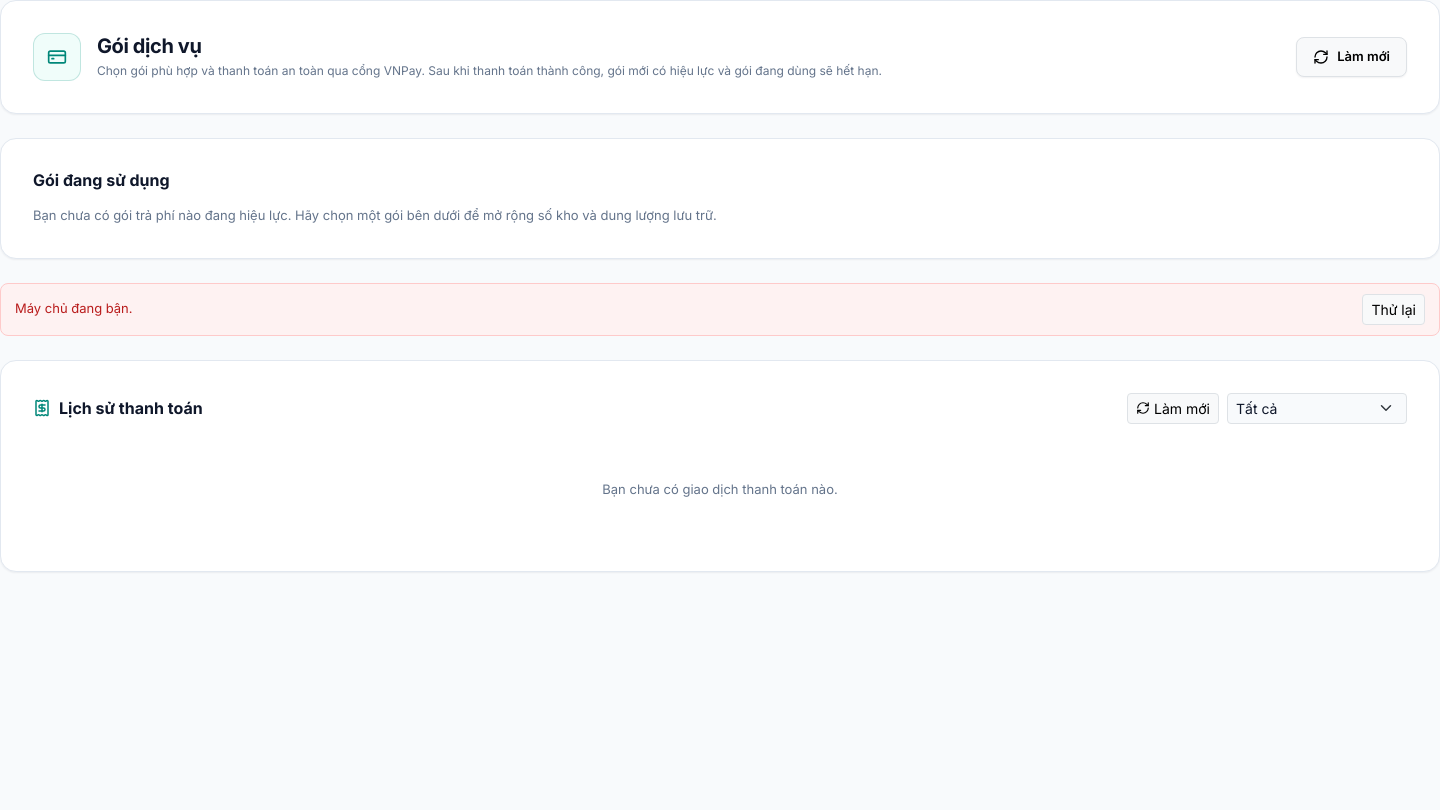
it: OwnerPlansPage loading and error › render_ApiFails_ShowsErrorWithRetry
Expected: the message shows "Máy chủ đang bận.", top-left (15, 300), bottom-right (132, 316)
Click the button "Thử lại" at (1394,309), box top-left (1362, 294), bottom-right (1425, 325)
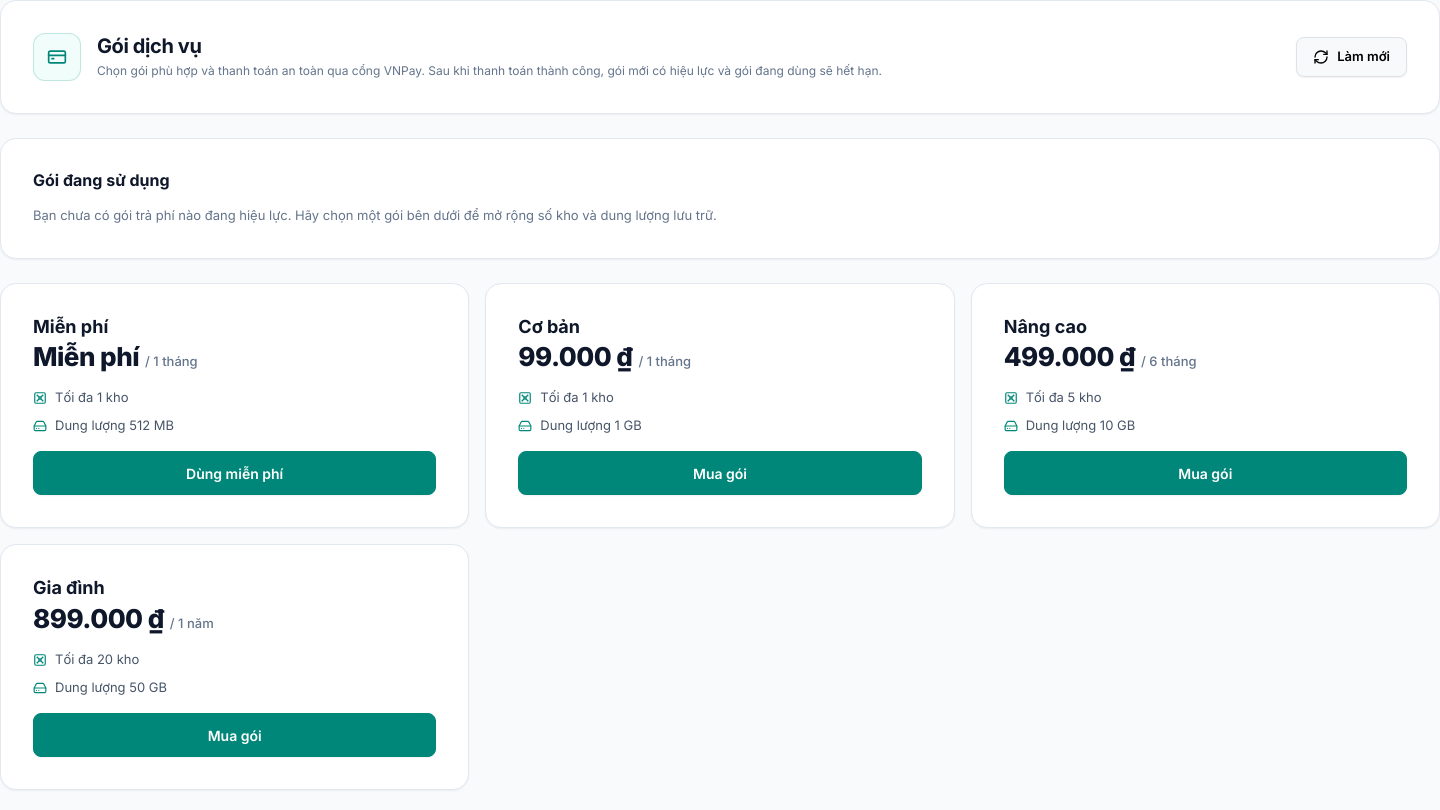
Expected: the element "Cơ bản" is shown, top-left (485, 283), bottom-right (955, 528)
